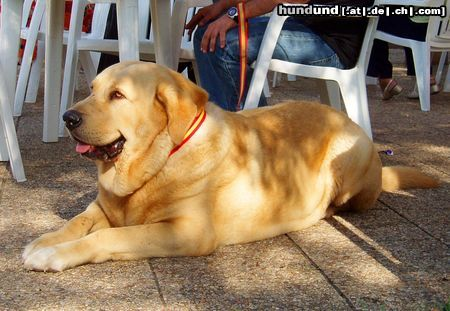mastin_espanol: (20, 59, 450, 272)
person: (183, 0, 374, 112)
